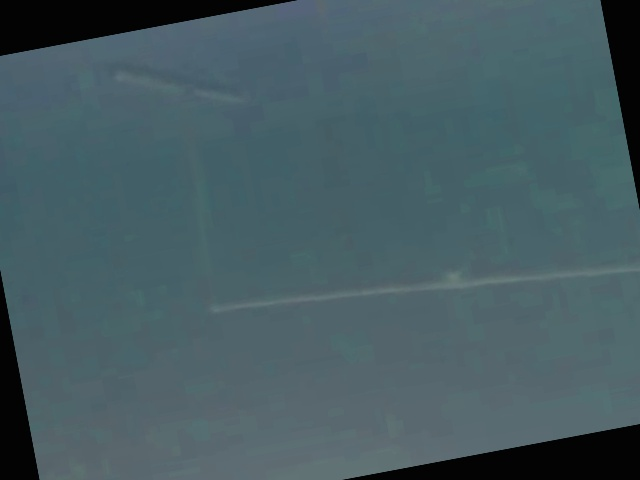gate: (91, 54, 640, 321)
